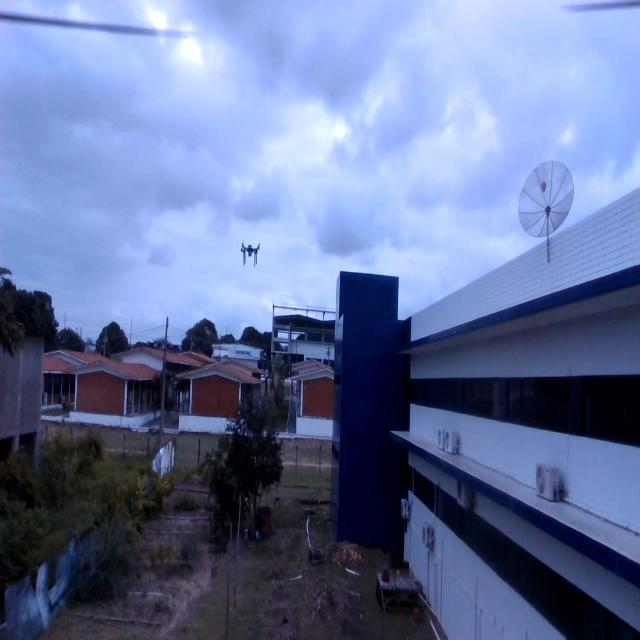-uav-: (237, 225, 266, 280)
